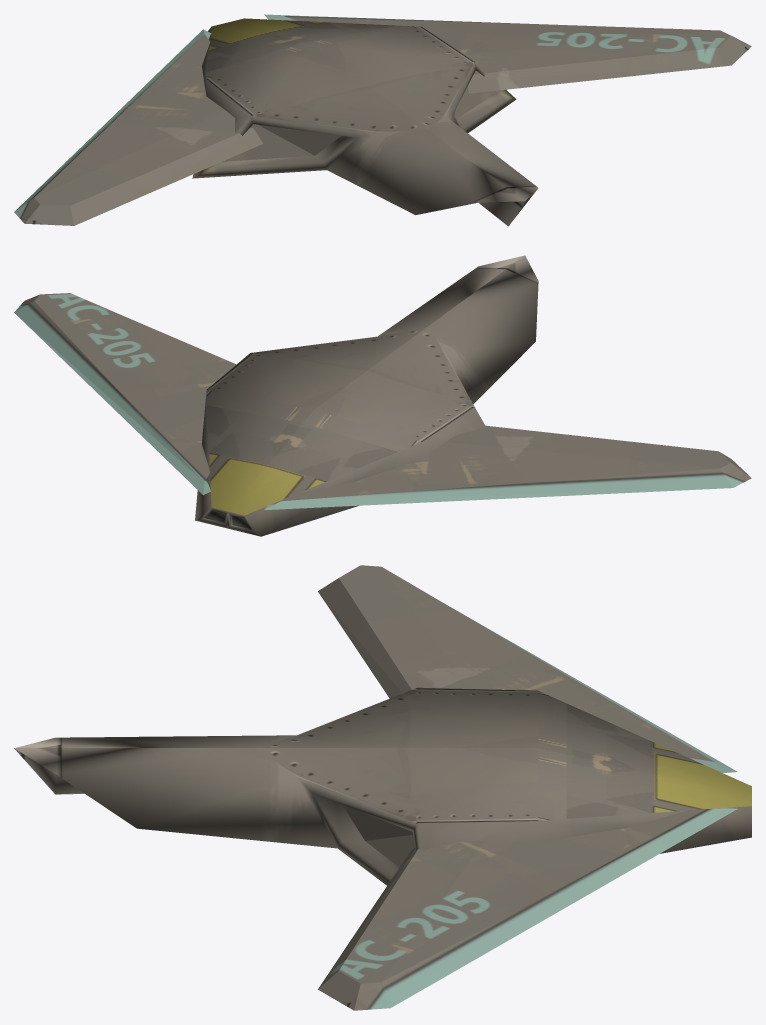
File: drone_quetzalcoatl.dae
3 views of the same model, one above another, from view 1: azimuth 30°, elevation 25°; view 2: azimuth 150°, elevation 25°; view 3: azimuth 270°, elevation 25° (orthographic). The views are drawn at different scales.
Visible parts, largest first — view 1: drone_quetzalcóatl; view 2: drone_quetzalcóatl; view 3: drone_quetzalcóatl.
Part boxes in pixels (x1,y1,x2,y2): drone_quetzalcóatl: (14,14,751,226); drone_quetzalcóatl: (14,255,751,536); drone_quetzalcóatl: (14,565,751,1010).
Size of the model in its own units: 5.39 by 3.82 by 0.4437.
